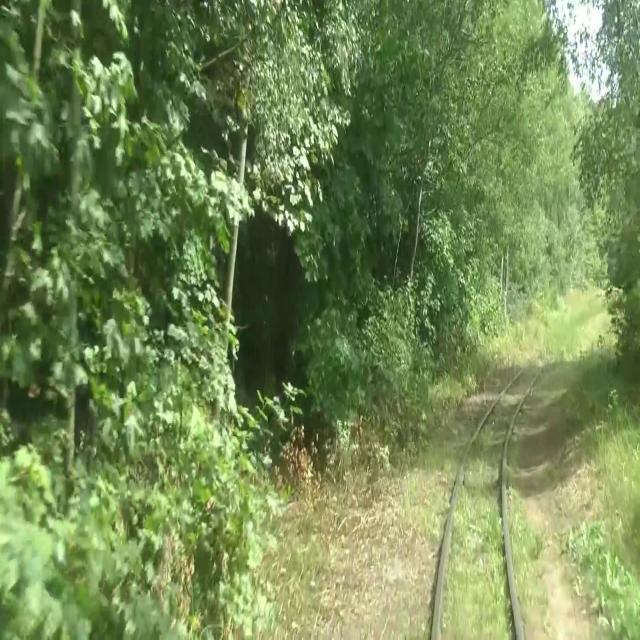rail-track: (437, 348, 549, 639)
